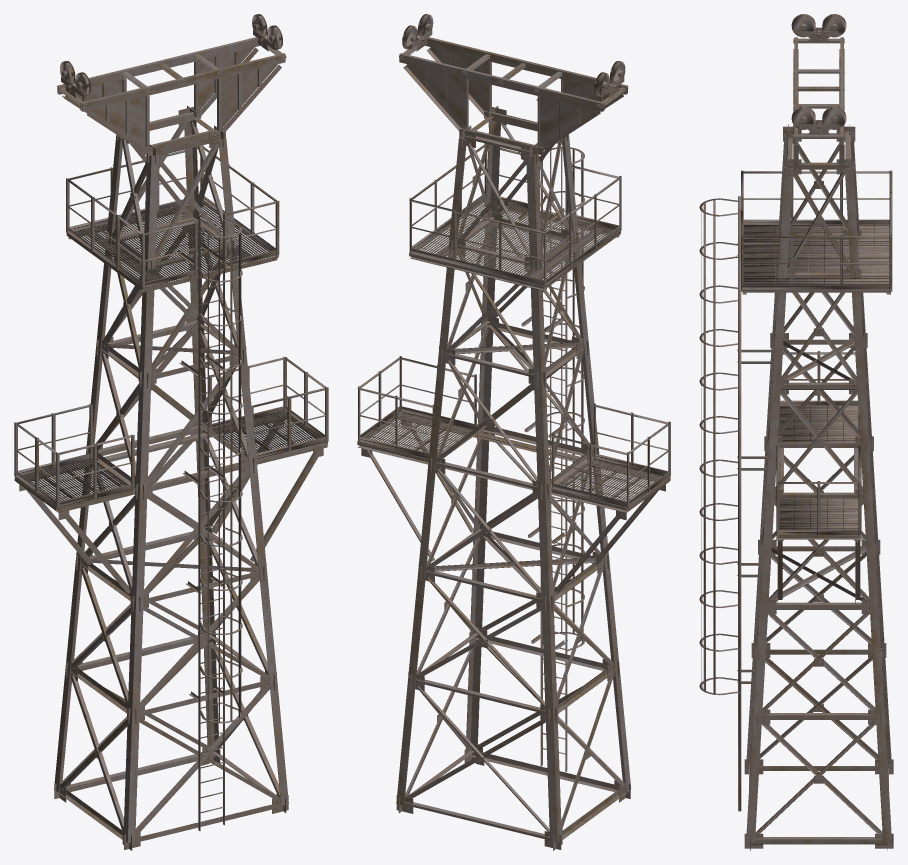
Rendered from CablewayTower_Metric15.fbx.
3 views of the same model, side by side, from view 1: azimuth 30°, elevation 25°; view 2: azimuth 150°, elevation 25°; view 3: azimuth 270°, elevation 25° (orthographic).
Visible parts, largest first — view 1: CablewayTower_Metric15; view 2: CablewayTower_Metric15; view 3: CablewayTower_Metric15.
Boxes of the visible parts, x1,y1,x2,y2 form: CablewayTower_Metric15: (14,14,328,850); CablewayTower_Metric15: (357,14,670,850); CablewayTower_Metric15: (699,14,893,850).
Size of the model in its own units: 5.66 by 15.12 by 3.54.
